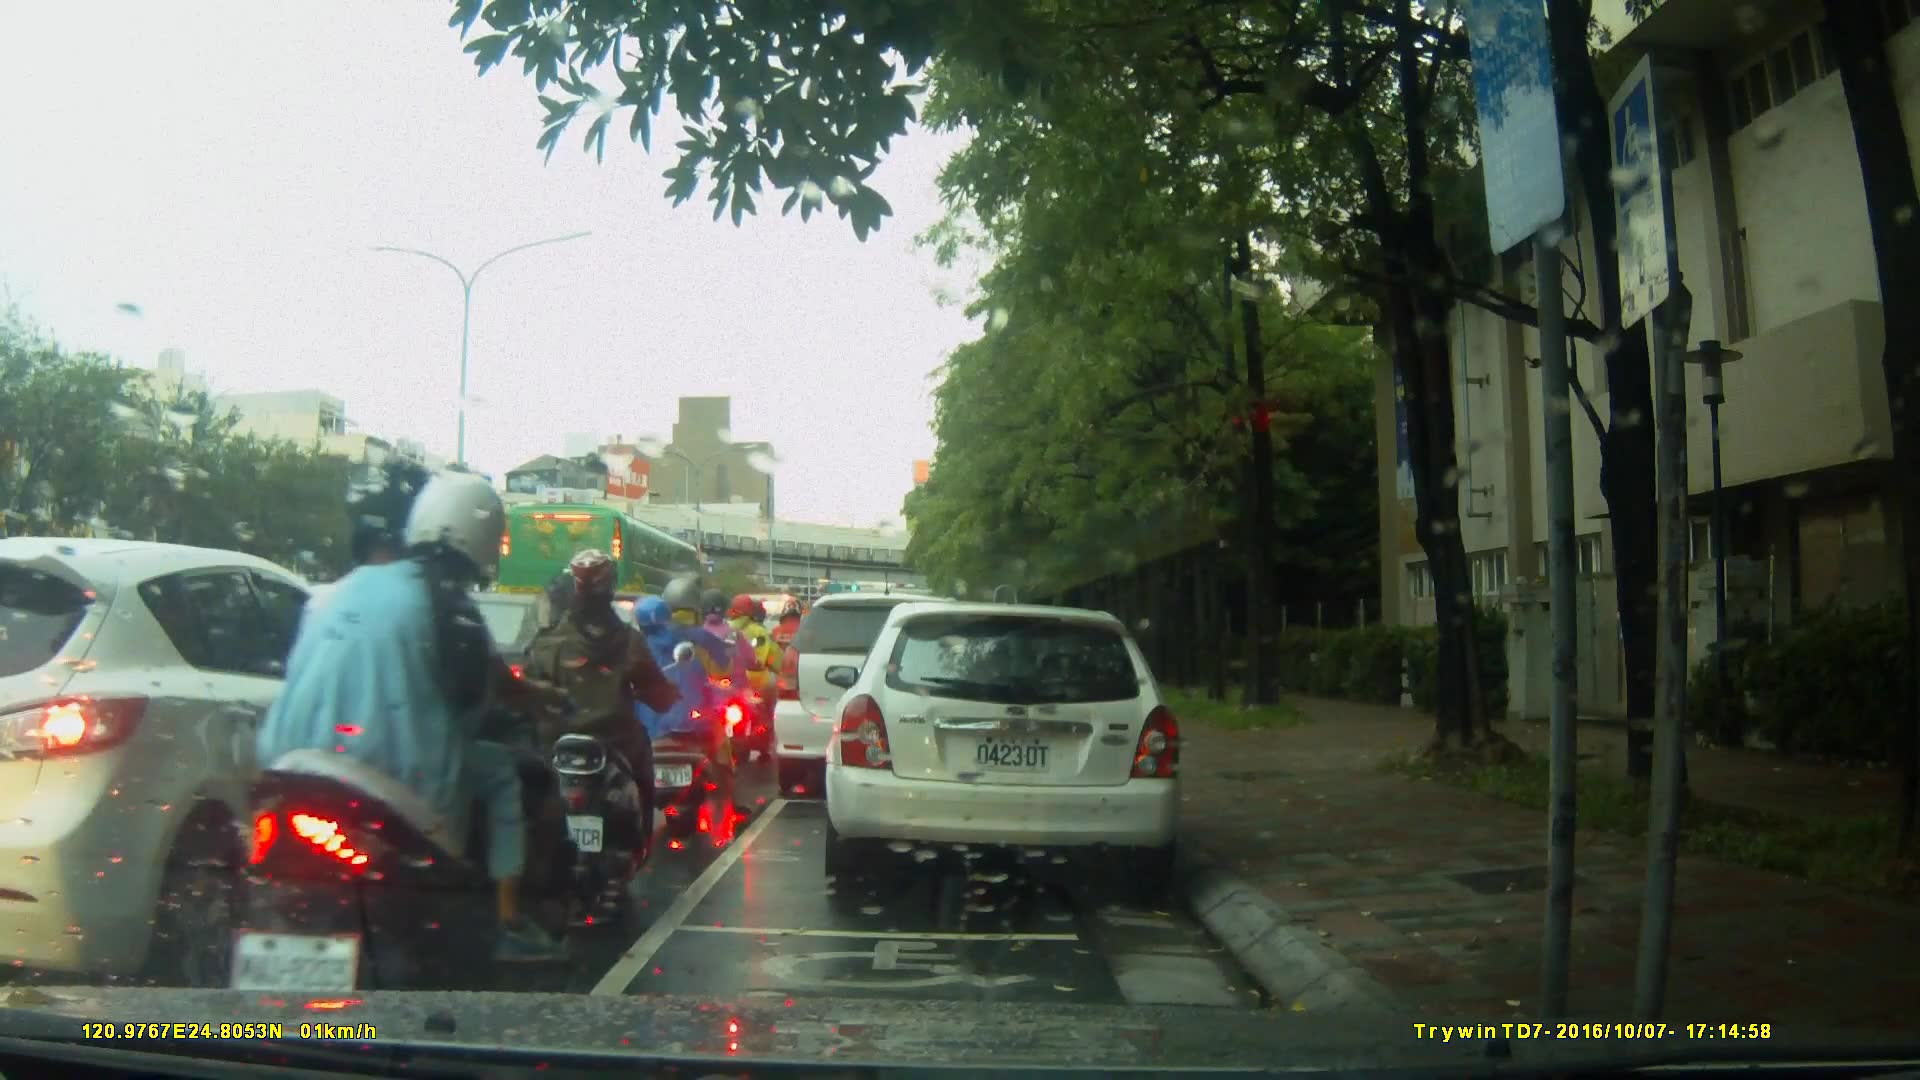rider: (219, 464, 584, 1025), (524, 546, 693, 913), (633, 582, 718, 825), (690, 594, 762, 770), (728, 596, 793, 759), (771, 596, 815, 727)
vehicle: (4, 535, 466, 988), (831, 592, 1196, 897), (312, 589, 629, 776), (771, 590, 999, 804), (501, 503, 709, 636)
